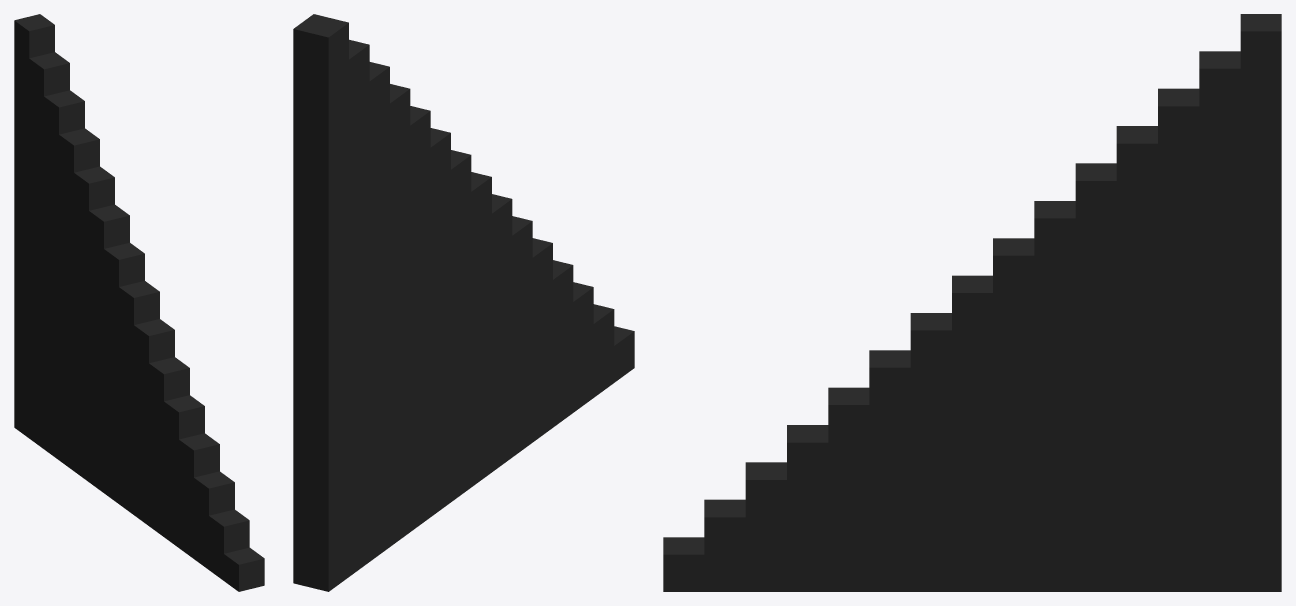
Rendered from ConstructionMaterials-20.obj.
3 views of the same model, side by side, from view 1: azimuth 30°, elevation 25°; view 2: azimuth 150°, elevation 25°; view 3: azimuth 270°, elevation 25° (orthographic). The views are drawn at different scales.
Bounding box in the file's own units: 0.1 × 1.5 × 1.5.
Materials: 1 (1 with a texture image).
